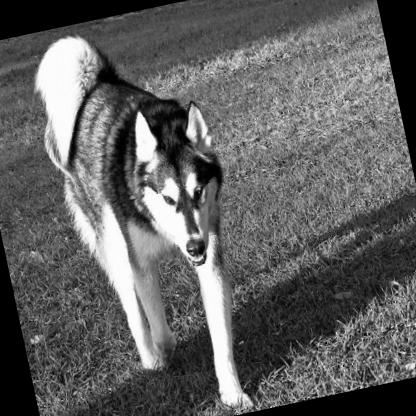malamute: (21, 6, 271, 416)
